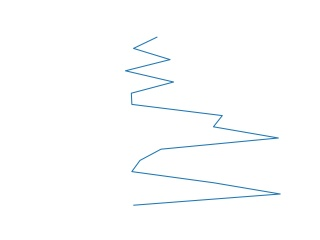majorRiverBedLagDeposit: (122, 34, 284, 206)
